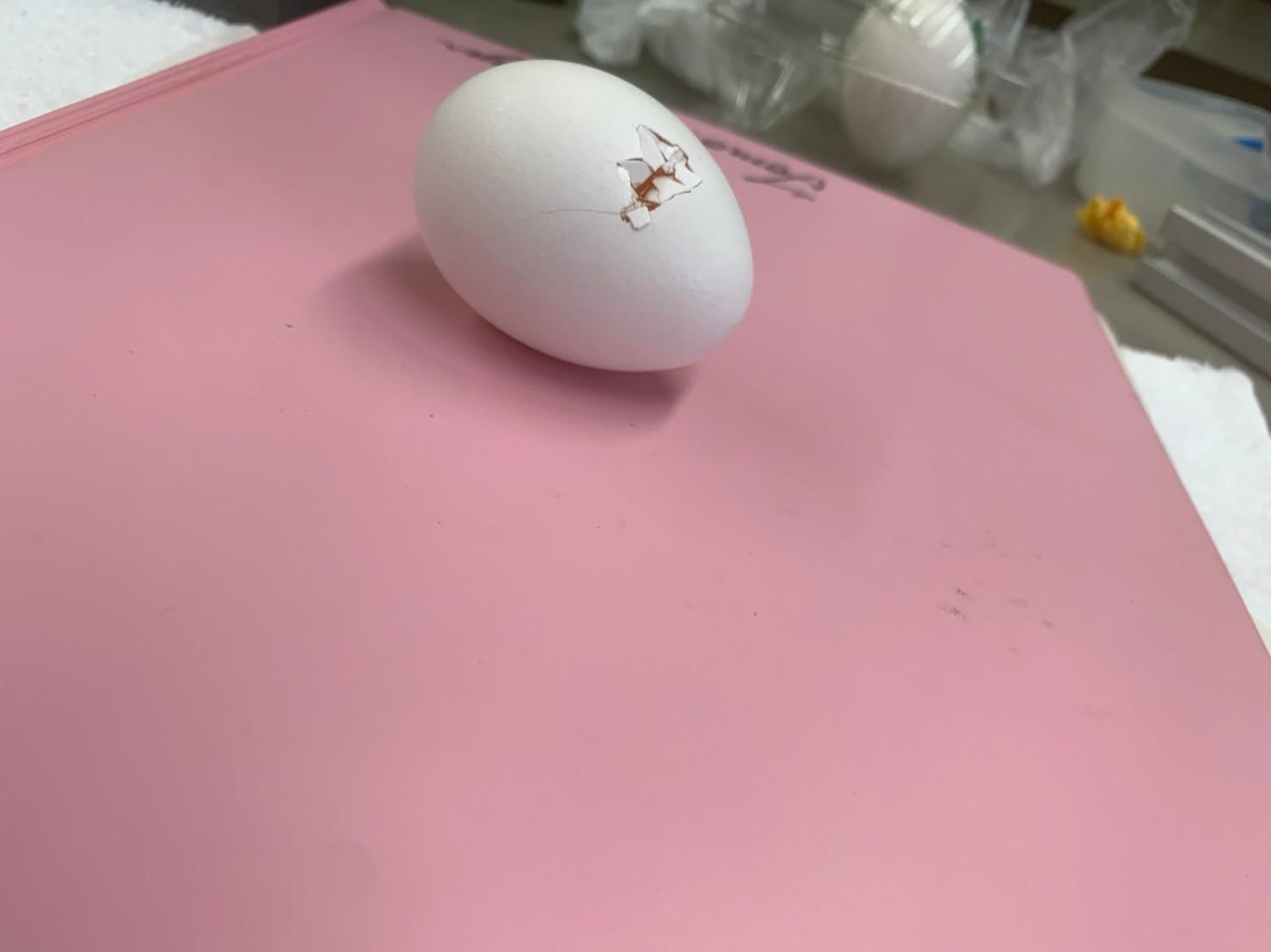egg: (410, 54, 762, 373)
